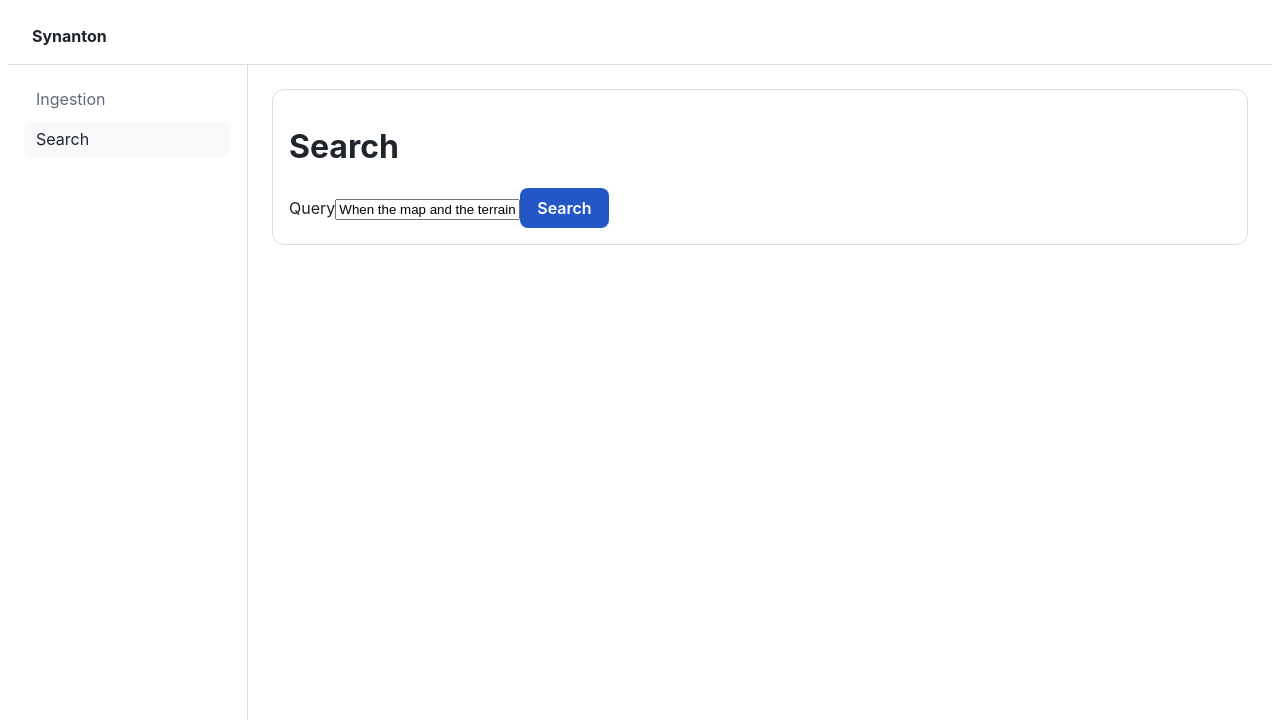
Test case: web shell (A-pre) › does not leak tenant A results to tenant B
Click the button "Search" at (564, 208), box [520,188,609,228]
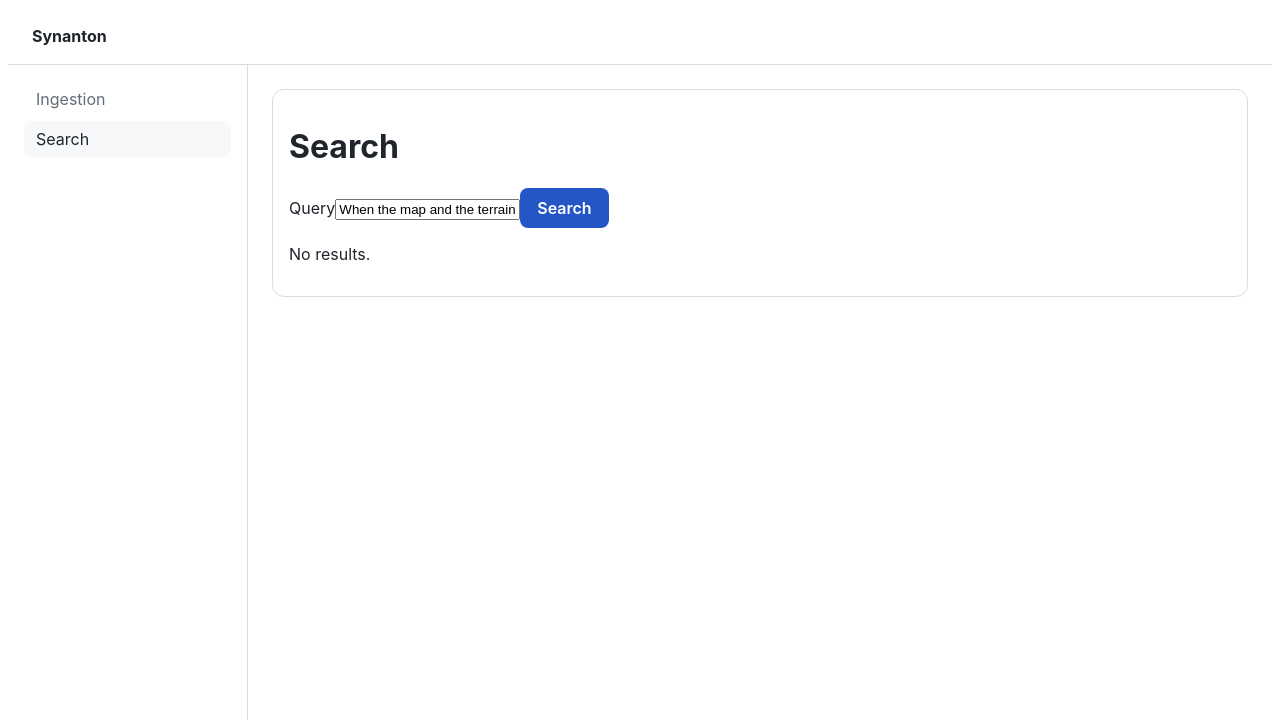
Check: the text "No results." is shown, box [289,244,370,264]
